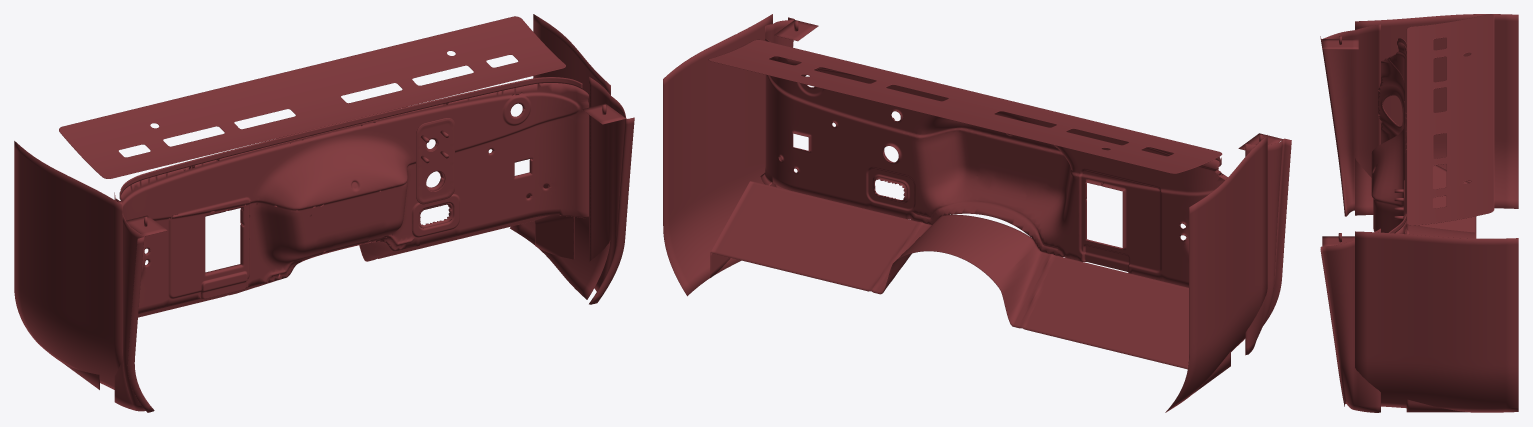
The model's file is k5-firewall.glb.
The picture shows the model from 3 angles, left to right: view 1: azimuth 30°, elevation 25°; view 2: azimuth 150°, elevation 25°; view 3: azimuth 270°, elevation 25°; orthographic projection. The views are drawn at different scales.
Parts seen in each view (by area): view 1: firewall_dash, cowl_plenum, cowl_side_L, cowl_side_R, firewall_toe_board, pinch_flange, booster_plate; view 2: firewall_dash, firewall_toe_board, cowl_side_R, cowl_side_L, cowl_plenum; view 3: cowl_side_R, cowl_plenum, cowl_side_L, firewall_dash, firewall_toe_board, booster_plate.
Part boxes in pixels (x1=…): firewall_dash: x1=116, y1=83, x2=588, y2=313; cowl_plenum: x1=59, y1=16, x2=565, y2=178; cowl_side_L: x1=14, y1=141, x2=167, y2=412; cowl_side_R: x1=510, y1=14, x2=634, y2=304; firewall_toe_board: x1=62, y1=215, x2=574, y2=389; pinch_flange: x1=119, y1=77, x2=582, y2=198; booster_plate: x1=416, y1=118, x2=454, y2=204; firewall_dash: x1=760, y1=56, x2=1227, y2=287; firewall_toe_board: x1=710, y1=181, x2=1230, y2=393; cowl_side_R: x1=663, y1=14, x2=818, y2=296; cowl_side_L: x1=1165, y1=133, x2=1291, y2=412; cowl_plenum: x1=708, y1=39, x2=1222, y2=173; cowl_side_R: x1=1320, y1=228, x2=1518, y2=412; cowl_plenum: x1=1406, y1=14, x2=1494, y2=225; cowl_side_L: x1=1320, y1=14, x2=1518, y2=216; firewall_dash: x1=1371, y1=43, x2=1409, y2=234; firewall_toe_board: x1=1406, y1=165, x2=1476, y2=412; booster_plate: x1=1394, y1=180, x2=1404, y2=219.
Size of the model in its own units: 1.76 by 0.7237 by 0.6561.
